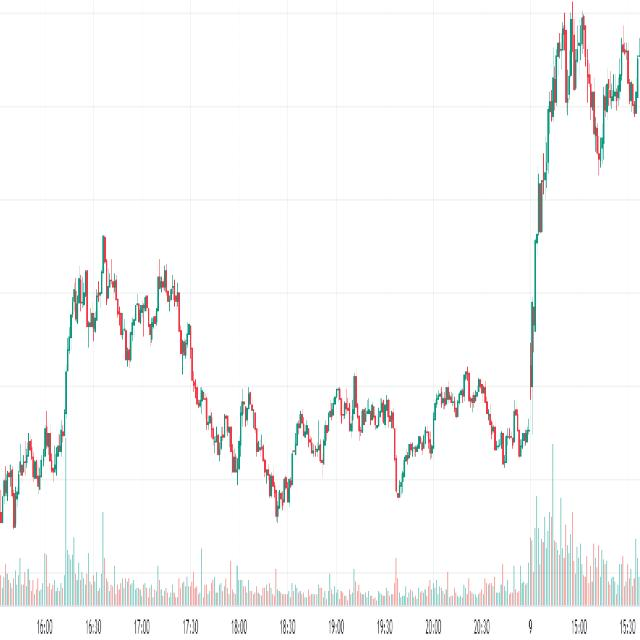Inverse-Head-Shoulders: (102, 244, 161, 377)
